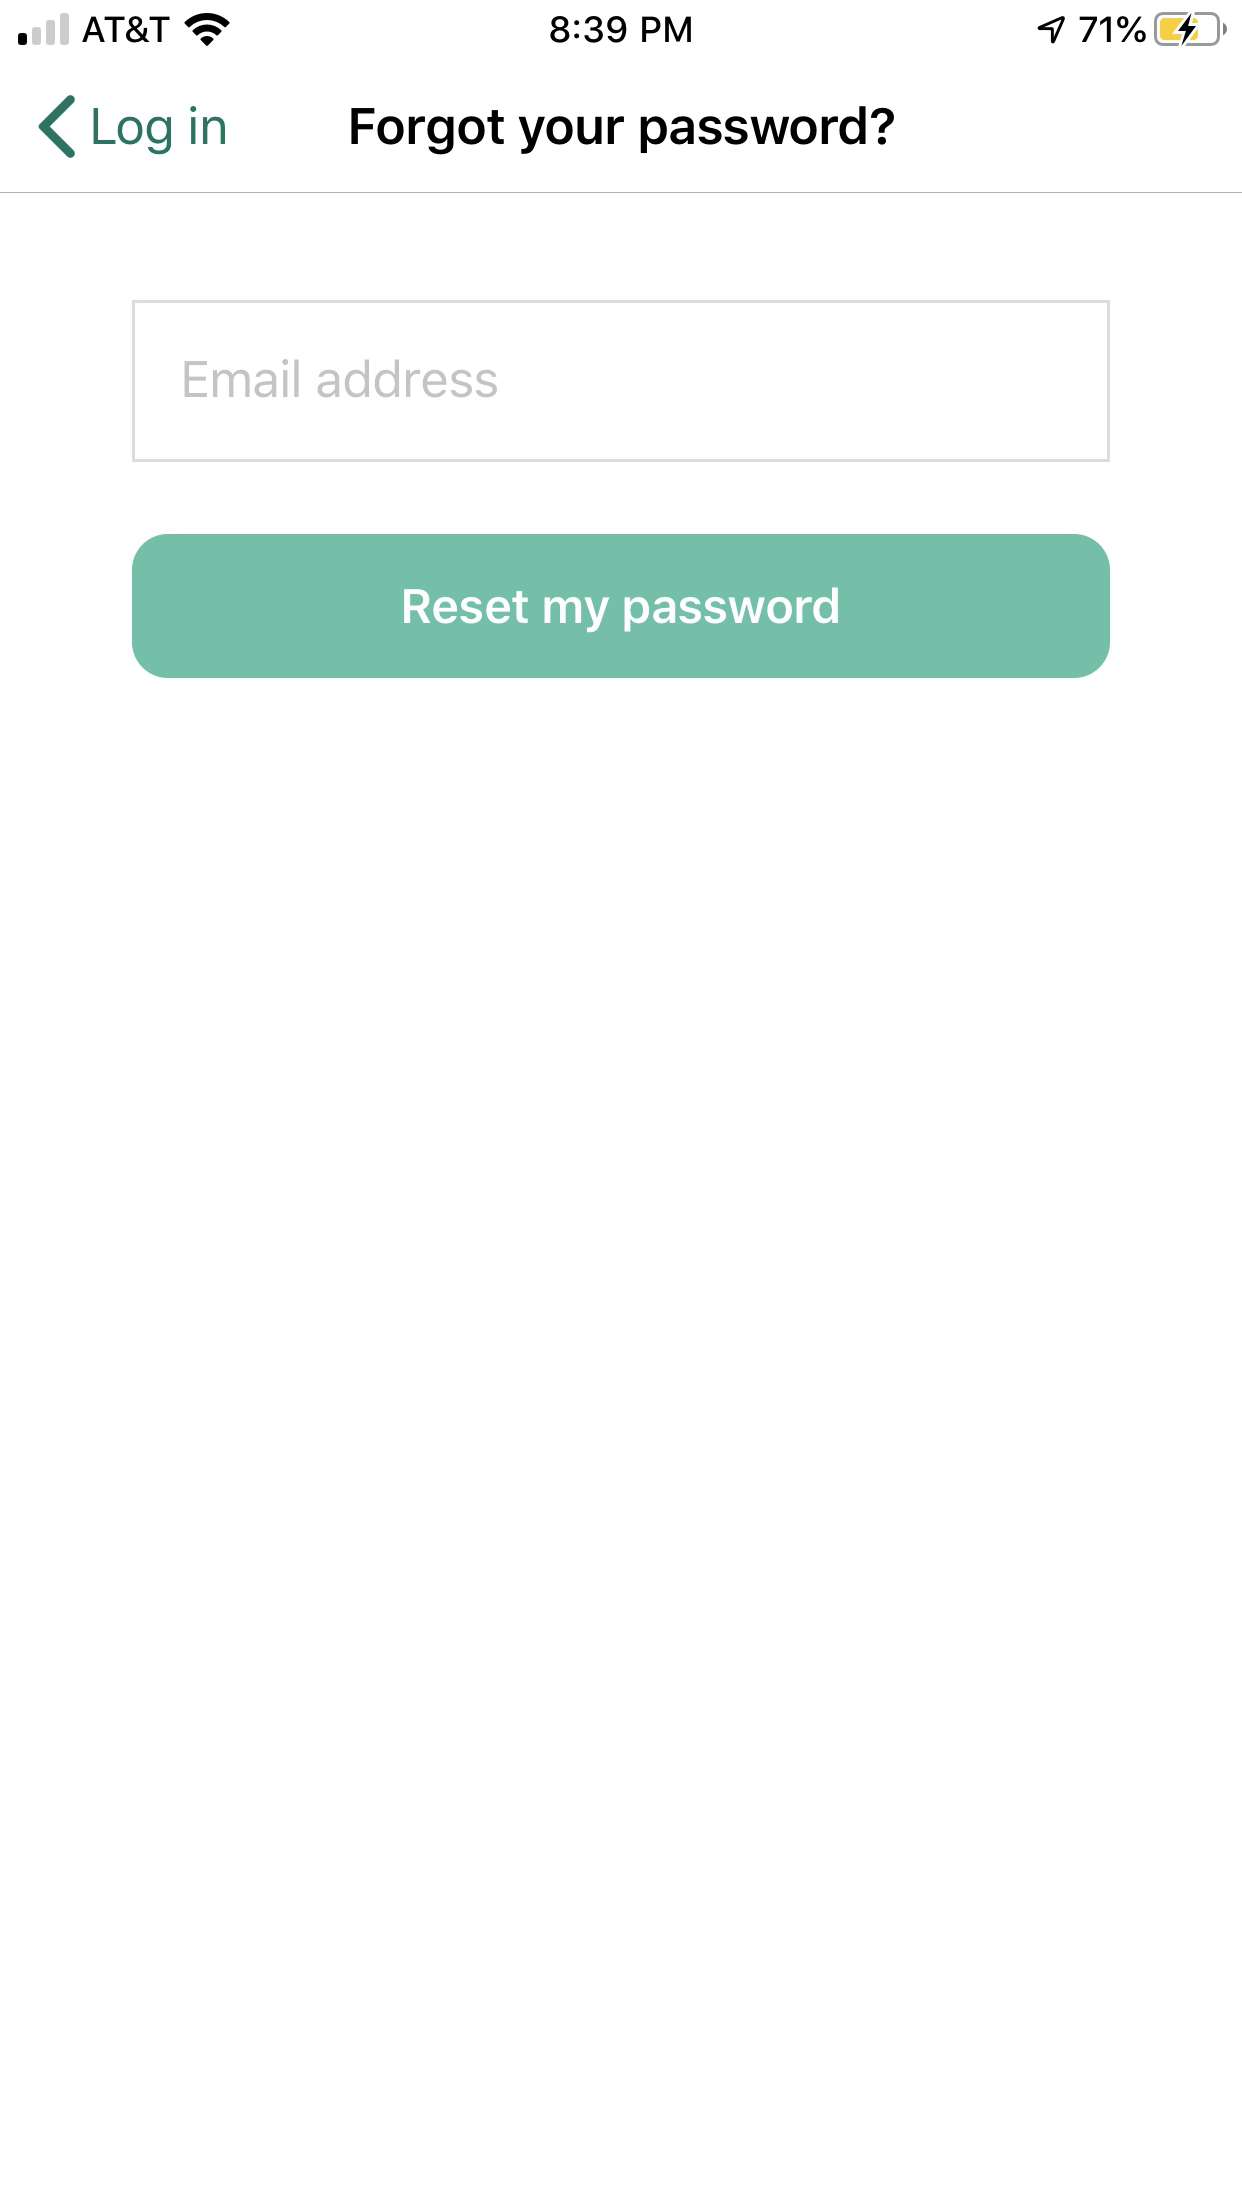EditText: (133, 300, 1110, 463)
Icon: (38, 96, 76, 159)
Text: (352, 106, 895, 156), (185, 359, 497, 399), (93, 106, 226, 156)
TextButton: (133, 534, 1112, 679)
UpperTaskBar: (2, 2, 1242, 49)
